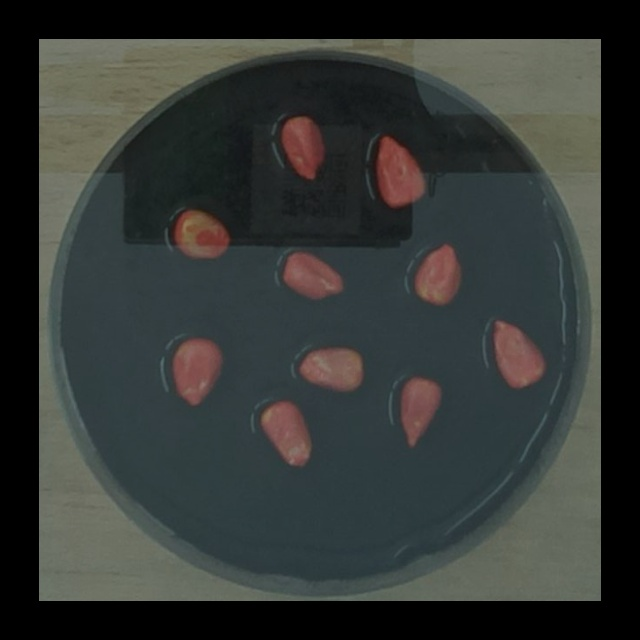Zea mays: (165, 331, 230, 413), (369, 129, 431, 214), (486, 312, 550, 394), (255, 392, 318, 472), (393, 370, 449, 453), (275, 109, 332, 188), (408, 237, 468, 311), (291, 342, 370, 398), (278, 246, 349, 307), (168, 205, 235, 264)
